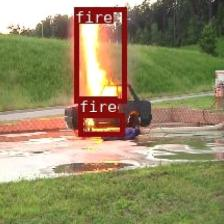fire: (74, 6, 125, 103), (77, 113, 123, 136)
